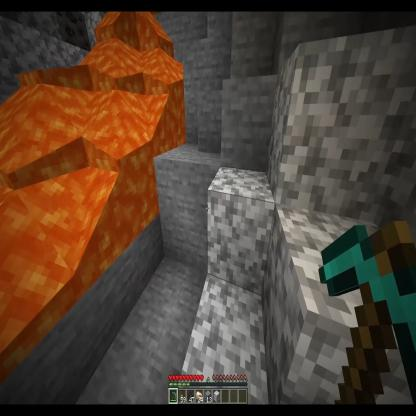coal ore: (52, 8, 92, 53)
